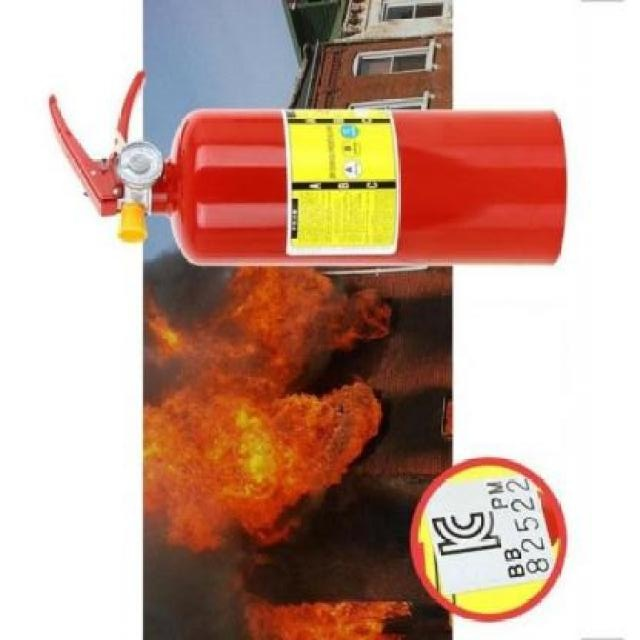fire extinguisher: (46, 70, 568, 267)
